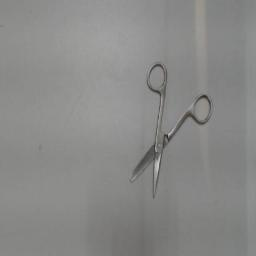Dressing Scissors: (122, 58, 218, 206)
